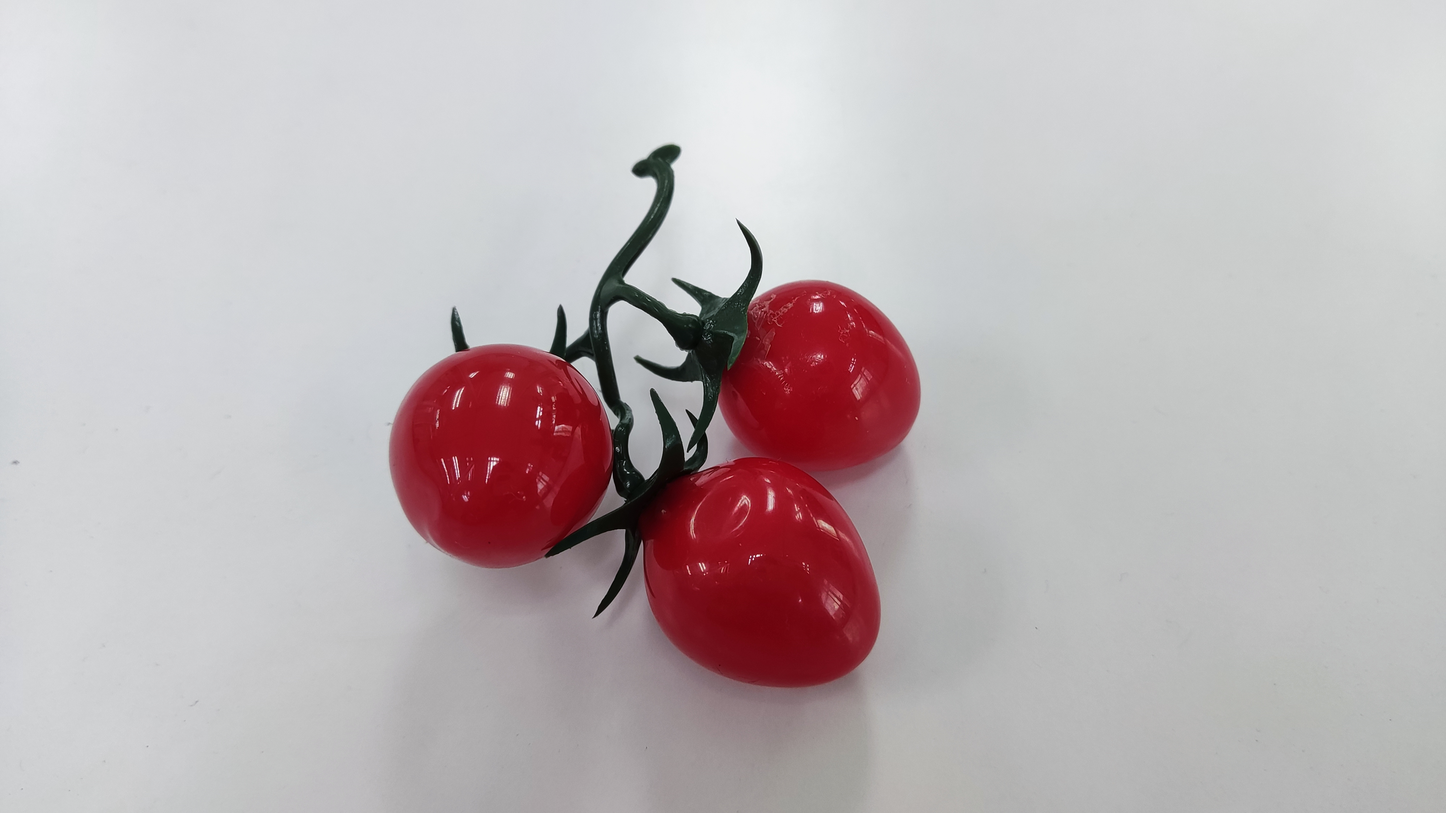peduncle: (607, 184, 675, 279)
strawberry: (639, 457, 881, 687), (388, 343, 612, 567), (719, 279, 921, 470)
